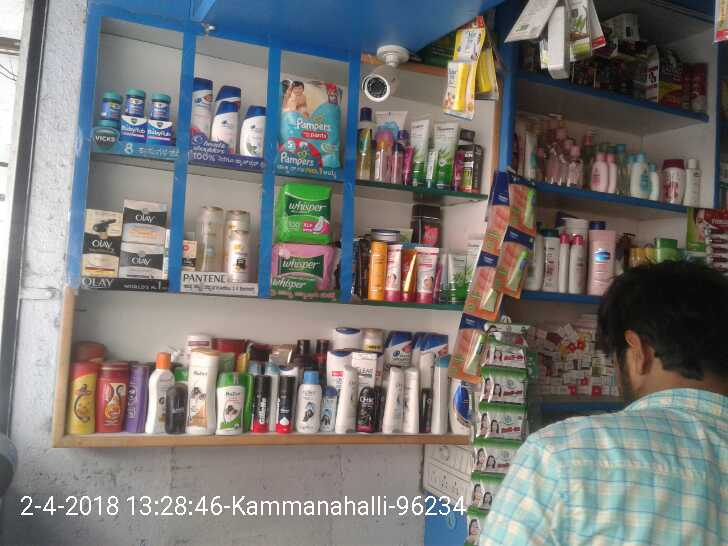vicks: (98, 90, 176, 142)
